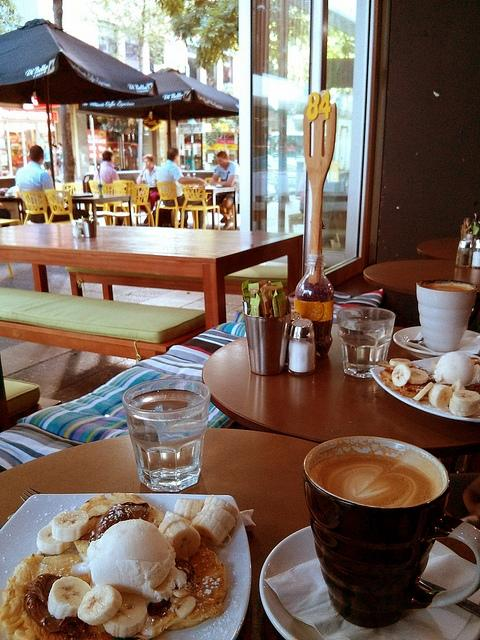banana: (103, 593, 148, 638), (48, 576, 92, 619), (77, 584, 122, 626), (163, 521, 202, 563), (36, 520, 72, 556), (52, 510, 90, 542), (198, 504, 236, 532), (205, 496, 238, 518), (174, 498, 204, 521), (158, 516, 192, 534), (428, 384, 452, 408), (174, 596, 197, 618), (391, 364, 411, 387), (452, 390, 480, 406), (449, 403, 479, 417), (413, 382, 434, 401), (410, 367, 428, 384), (450, 379, 466, 393), (389, 358, 412, 367), (173, 588, 188, 598), (432, 361, 438, 376)
